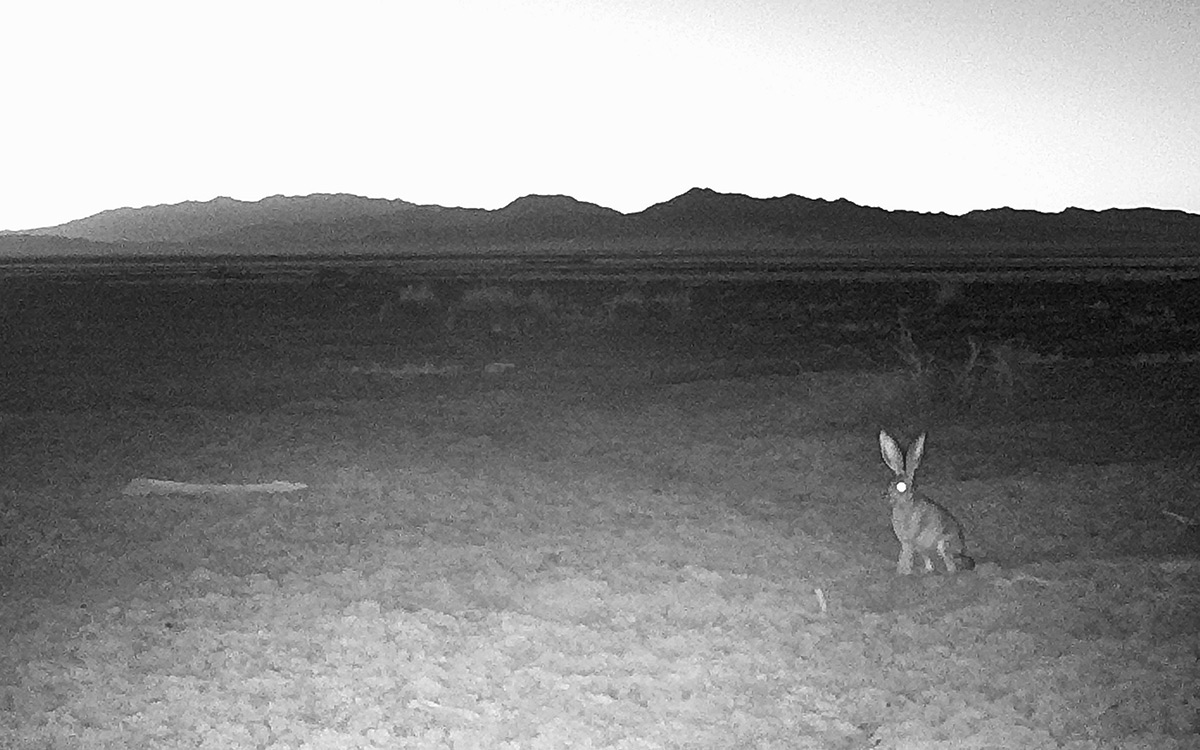rabbit: (853, 409, 1000, 588)
